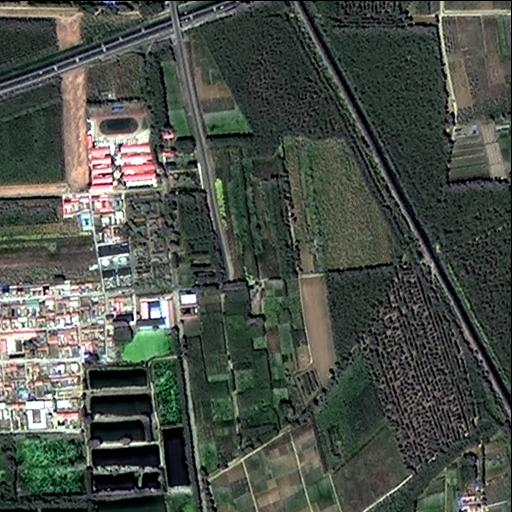school: (84, 105, 158, 188)
